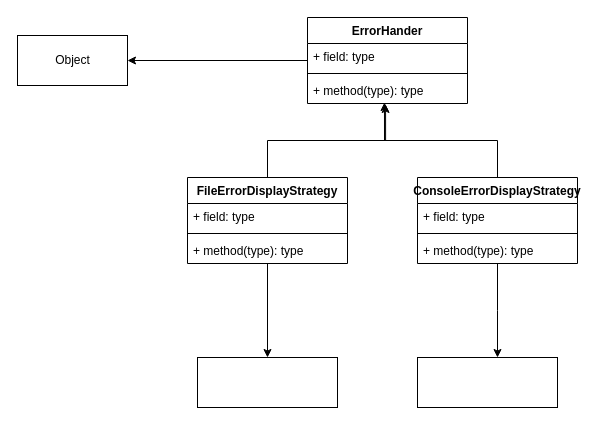
Image size: 599x425. Some labels were removed from this diagram. The shapes that lost their labels are listed below. From the top down, each one's centre as x and y in pixels, then its label:
At (267,382): "«interface» ierror-display-strategy".
At (487,382): "«interface» ierror-logging-strategy".
